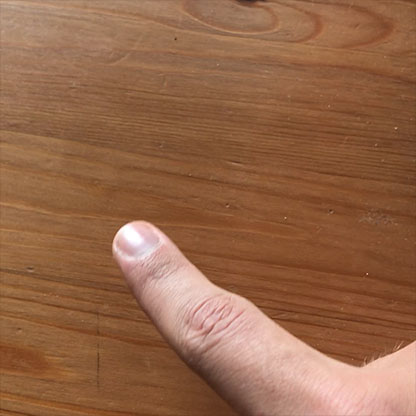fingertip: (103, 217, 169, 269)
